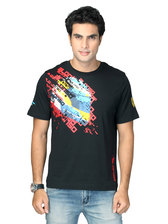clothoes: (27, 59, 141, 192)
